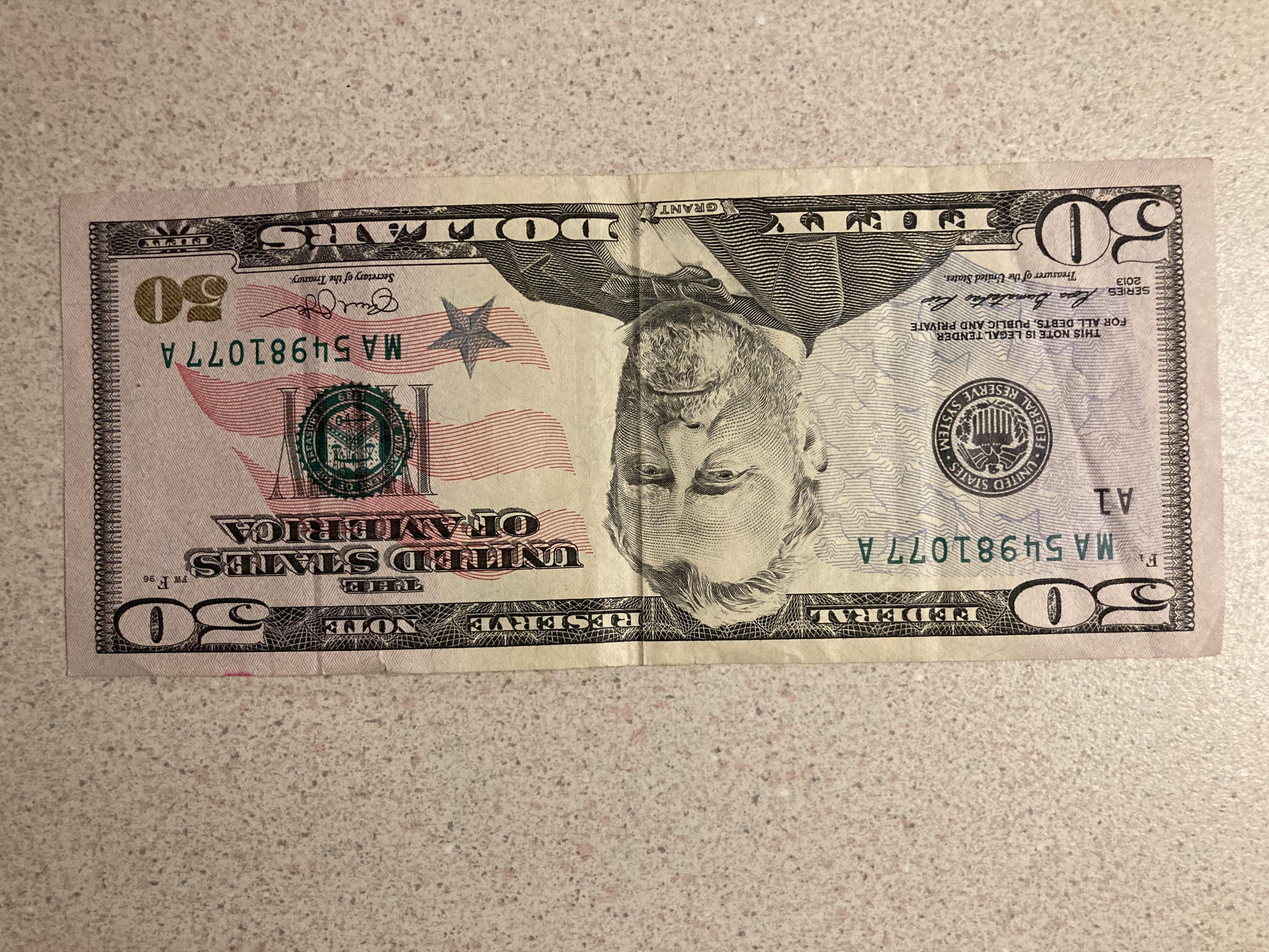fifty-front: (61, 159, 1221, 679)
